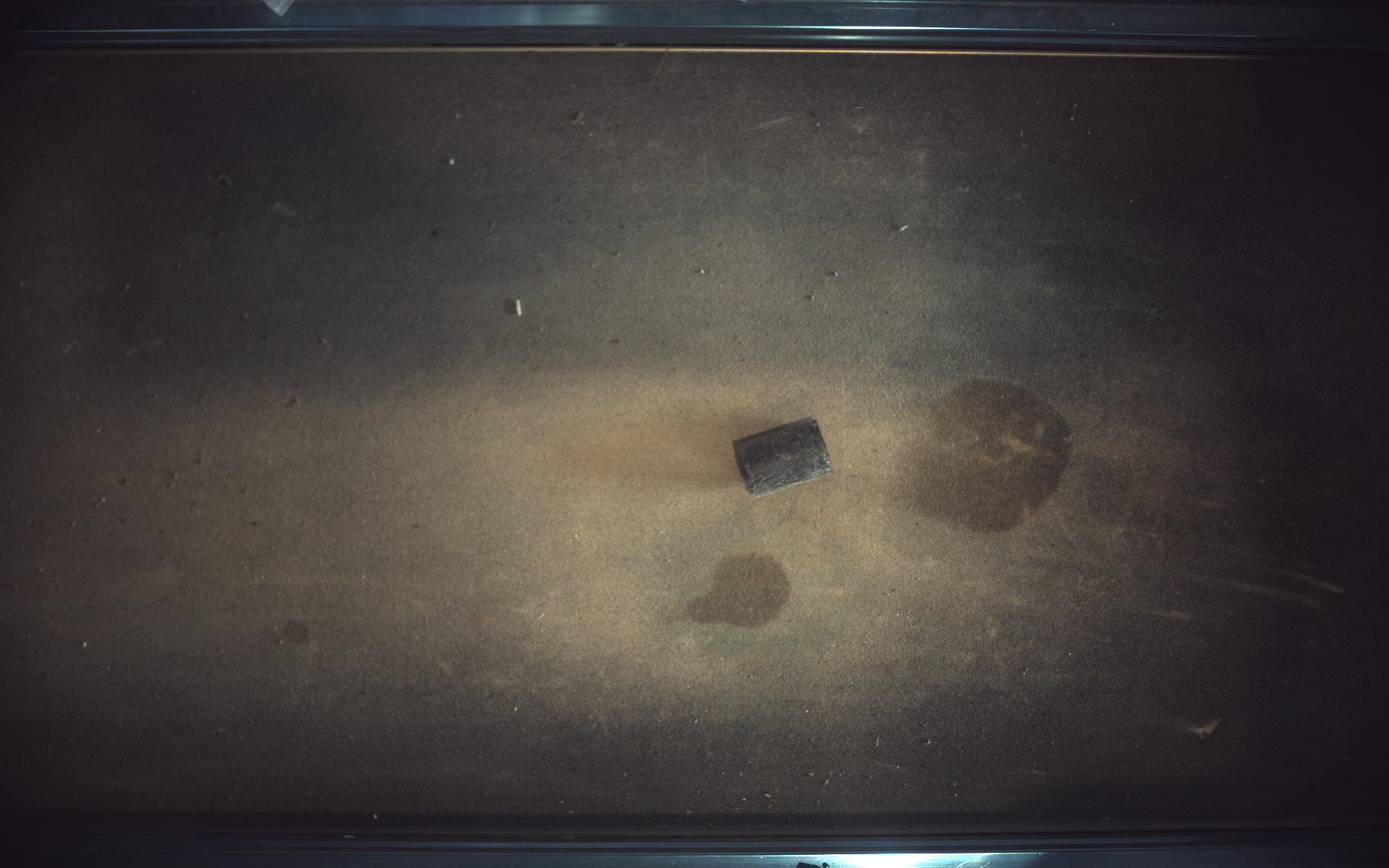pipes: (734, 419, 833, 496)
